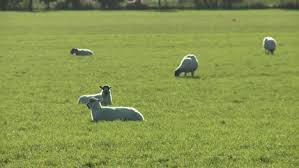sheep: (82, 97, 155, 131), (60, 79, 120, 109), (168, 50, 203, 83), (66, 46, 103, 62), (262, 35, 275, 61)
